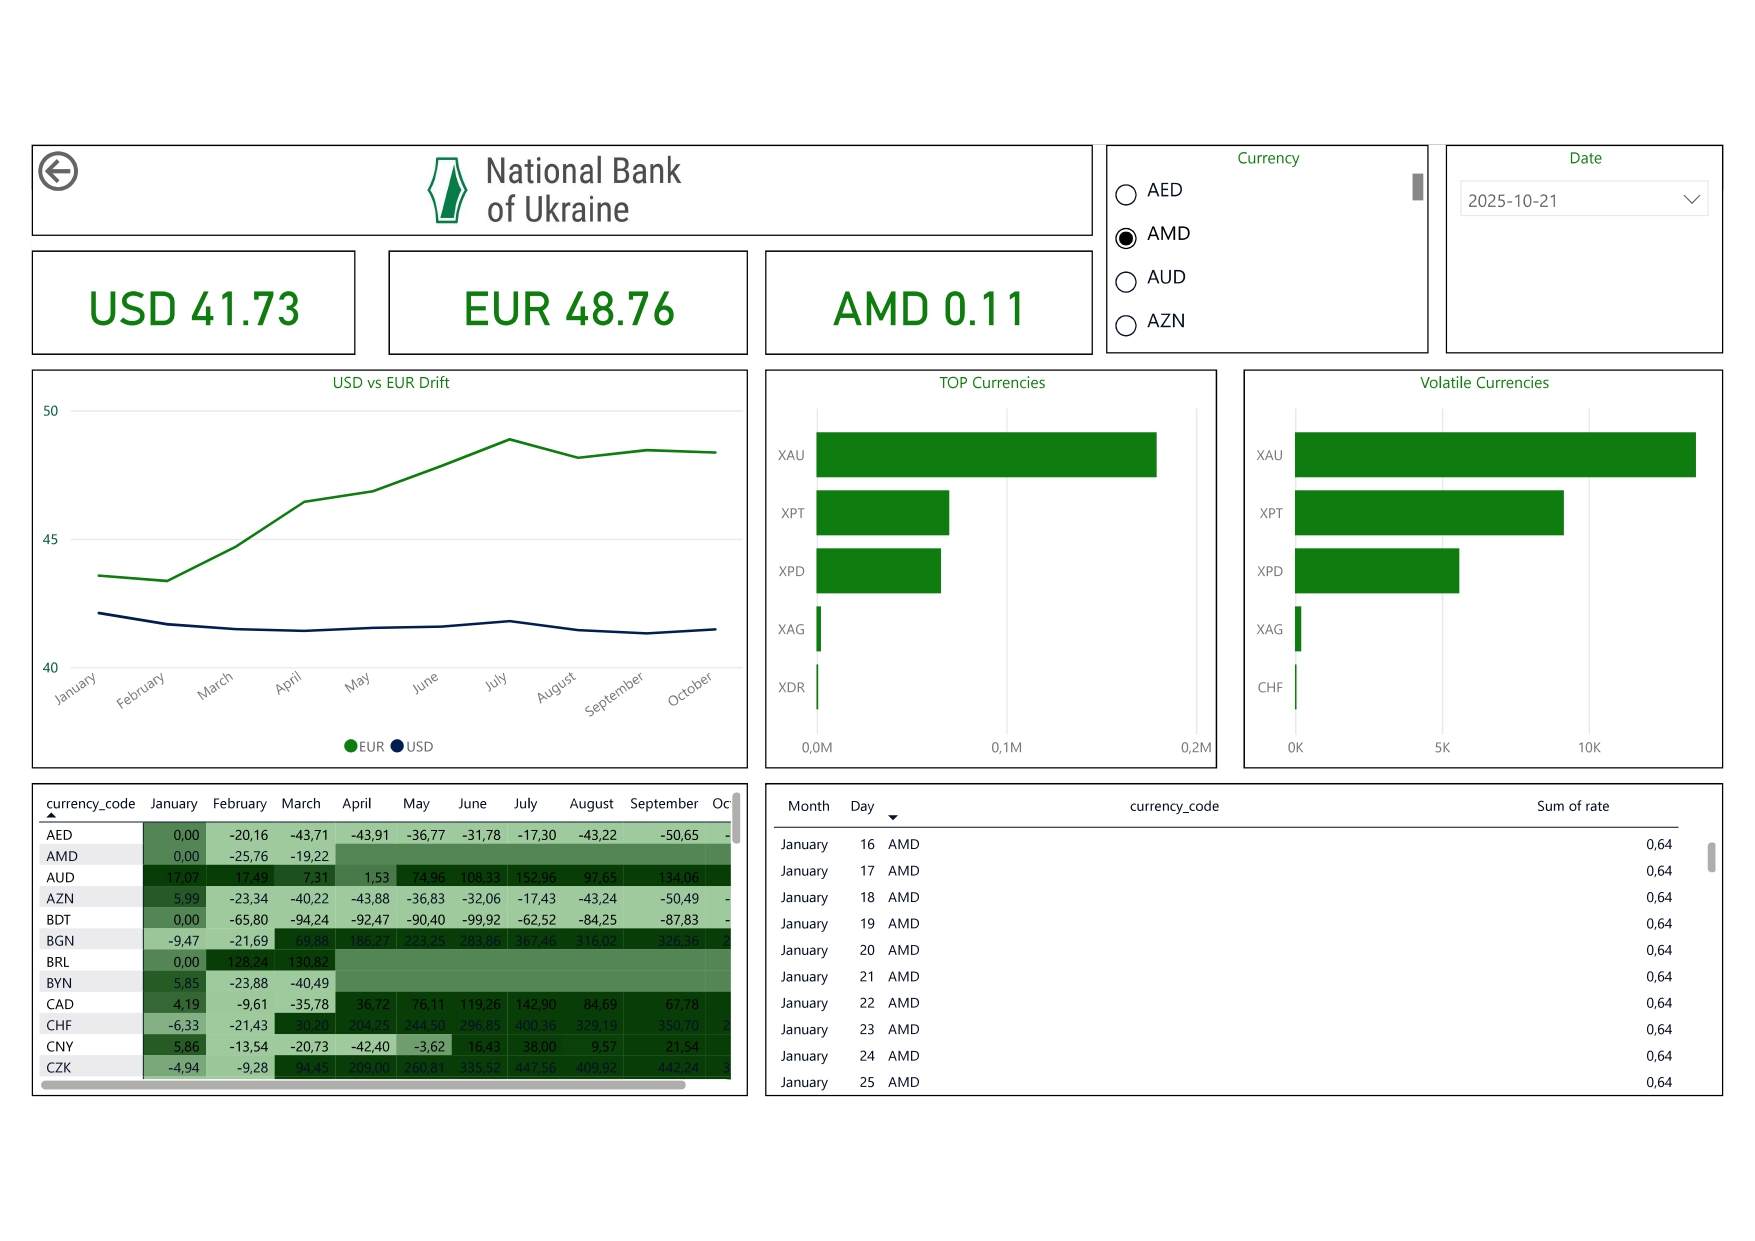

This screenshot's page, from the dashboard's own definition file:
{"tool":"powerbi","page":{"name":"Page 1","canvas":[1280,720],"ordinal":0},"visuals":[{"type":"actionButton","box":[0,0,100,40],"z":0},{"type":"textbox","box":[0,0,803.5,68.8],"z":1000},{"type":"card","fields":{"Values":["public eur_usd_other.SelectedCurrencyAndRate"]},"box":[554.5,80.2,248.7,78.8],"z":2000},{"type":"listSlicer","title":"Currency","fields":{"Values":["public eur_usd_other.currency_code"]},"box":[813.1,0,243.7,158],"z":3000},{"type":"card","title":"USD","fields":{"Values":["public eur_usd_other.SelectedCurrencyAndRate"]},"box":[0,80.2,244.6,78.8],"z":4000},{"type":"card","title":"EUR","fields":{"Values":["public eur_usd_other.SelectedCurrencyAndRate"]},"box":[270,80,272,79],"z":5000},{"type":"lineChart","title":"USD vs EUR Drift","fields":{"Category":["public avg_month.month.Variation.Date Hierarchy.Month"],"Series":["public avg_month.currency_code"],"Y":["Sum(public avg_month.avg_rate)"]},"box":[0,170,542,302],"z":6000},{"type":"clusteredBarChart","title":"TOP Currencies","fields":{"Category":["public top_five.currency_code"],"Y":["Max(public top_five.max_rate)"]},"box":[554.5,169.9,342.5,301.7],"z":7000},{"type":"clusteredBarChart","title":"Volatile Currencies","fields":{"Category":["public volatility_five.currency_code"],"Y":["Max(public volatility_five.volatility)"]},"box":[917.4,169.9,362.9,301.7],"z":8000},{"type":"slicer","title":"Date","fields":{"Values":["public table_courses.date"]},"box":[1070.1,0,209.9,158],"z":9000},{"type":"tableEx","fields":{"Values":["public table_courses.date.Variation.Date Hierarchy.Month","public table_courses.date.Variation.Date Hierarchy.Day","public table_courses.currency_code","Sum(public table_courses.rate)"]},"box":[555,482.6,725.1,237.7],"z":10000},{"type":"pivotTable","fields":{"Rows":["public change_currency.currency_code"],"Columns":["public change_currency.date.Variation.Date Hierarchy.Month","public change_currency.date.Variation.Date Hierarchy.Day"],"Values":["Sum(public change_currency.rate_change_pct)"]},"box":[0,483,542,237],"z":11000},{"type":"image","box":[0,0,803,69],"z":11001}]}

Visuals, with their boxes in screenshot pixels (x1, y1, x2, y2):
actionButton: <region>41, 142, 172, 194</region>
textbox: <region>41, 142, 1089, 231</region>
card - public eur_usd_other.SelectedCurrencyAndRate: <region>764, 246, 1089, 349</region>
"Currency" listSlicer: <region>1102, 142, 1419, 348</region>
"USD" card: <region>41, 246, 360, 349</region>
"EUR" card: <region>393, 246, 748, 349</region>
"USD vs EUR Drift" lineChart: <region>41, 363, 748, 757</region>
"TOP Currencies" clusteredBarChart: <region>764, 363, 1211, 757</region>
"Volatile Currencies" clusteredBarChart: <region>1238, 363, 1711, 757</region>
"Date" slicer: <region>1437, 142, 1711, 348</region>
tableEx - public table_courses.date.Variation.Date Hierarchy.Month x public table_courses.date.Variation.Date Hierarchy.Day: <region>765, 771, 1711, 1081</region>
pivotTable - public change_currency.currency_code x public change_currency.date.Variation.Date Hierarchy.Month: <region>41, 772, 748, 1081</region>
image: <region>41, 142, 1088, 232</region>
